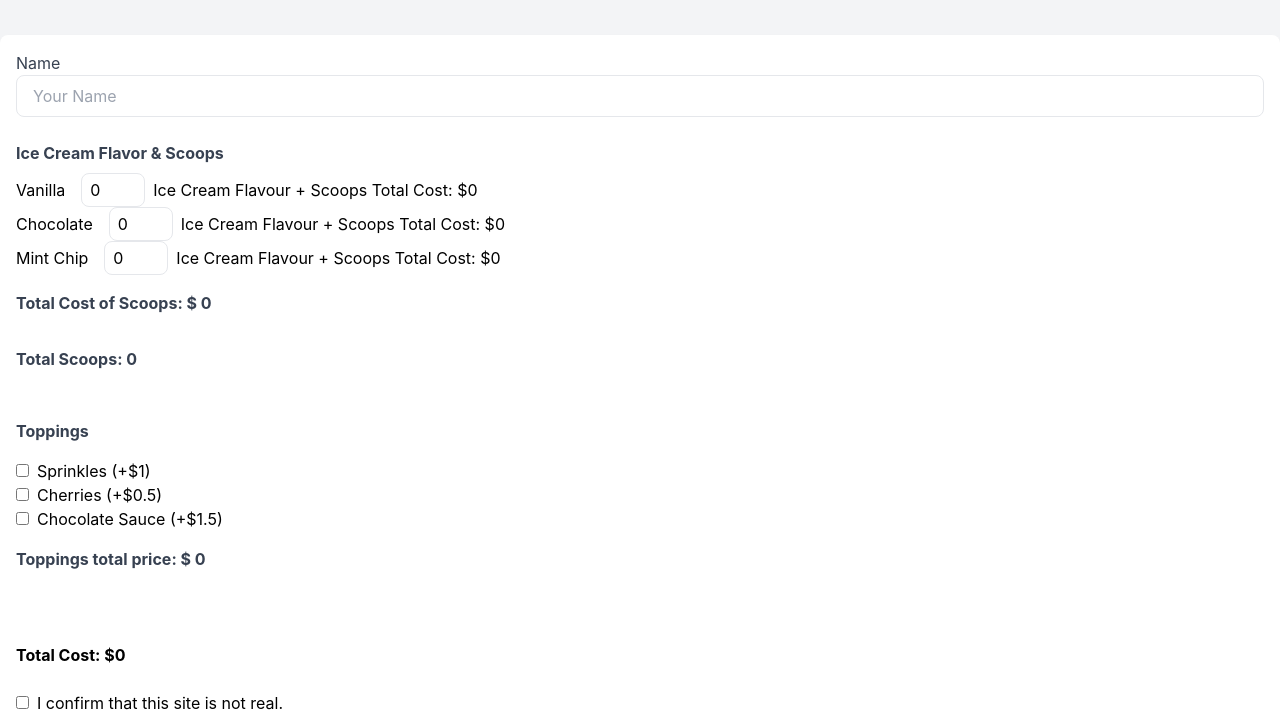
Button is disabled when checkbox is unchecked
Note: Check the checkbox
Click the checkbox labelled "I confirm that this site is not real." at x=22, y=702, box [16,696,29,709]
(page scrolled)
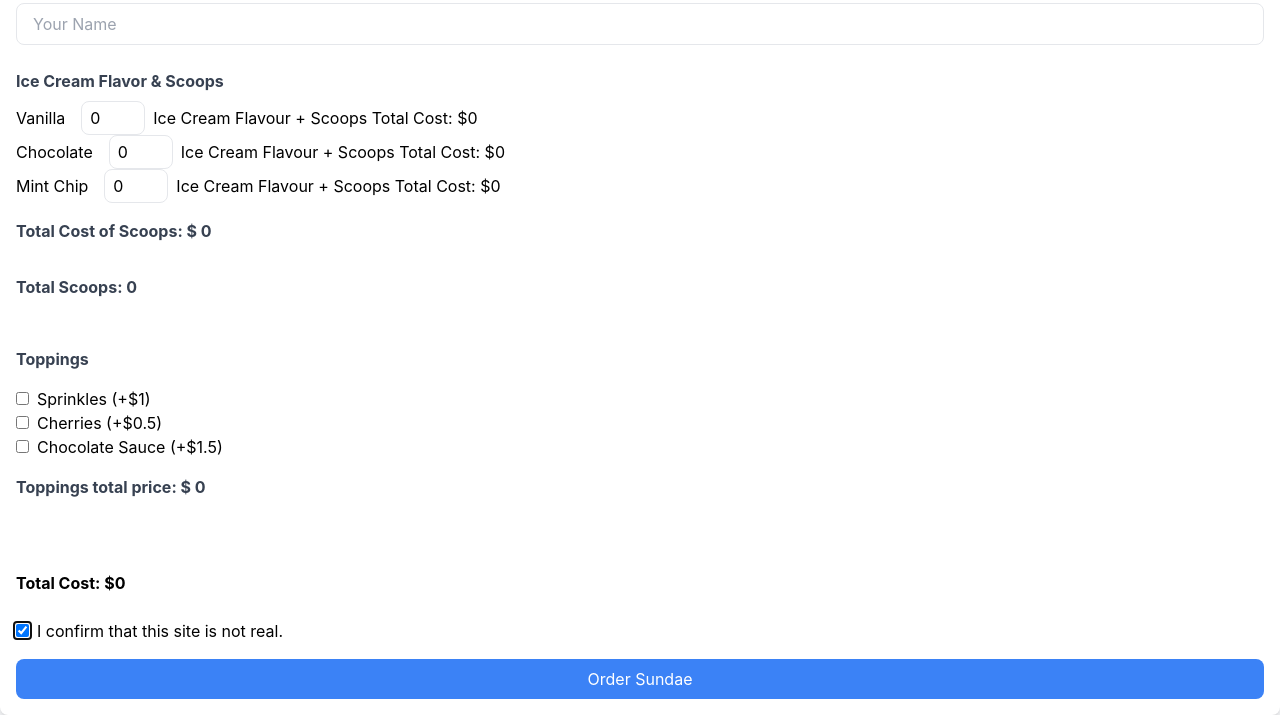
Check: the button "Order Sundae" is enabled, box [16,659,1264,699]
